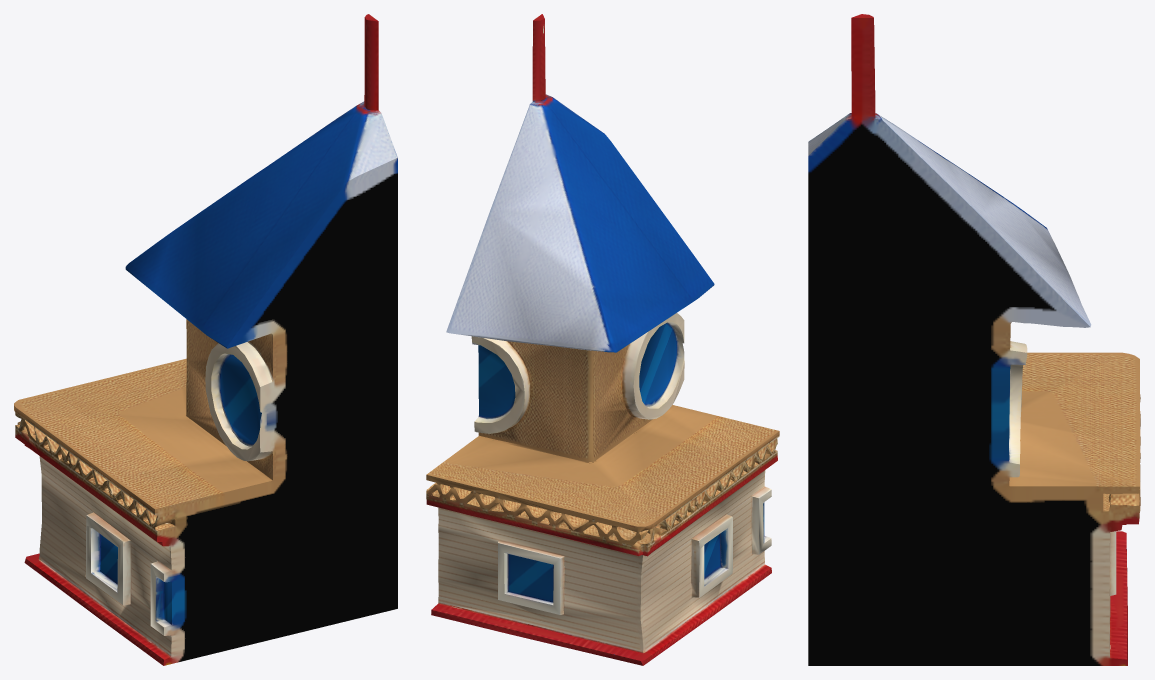
Rendered from 15-topper-back-left.fbx.
The picture shows the model from 3 angles, left to right: view 1: azimuth 30°, elevation 25°; view 2: azimuth 150°, elevation 25°; view 3: azimuth 270°, elevation 25°; orthographic projection. The views are drawn at different scales.
Parts seen in each view (by area): view 1: topper-back-left; view 2: topper-back-left; view 3: topper-back-left.
Part boxes in pixels (<box>): topper-back-left: <box>14,14,397,665</box>; topper-back-left: <box>426,14,779,665</box>; topper-back-left: <box>808,14,1140,665</box>.
Bounding box in the file's own units: 4356 × 9816 × 4567.
Materials: 1 (1 with a texture image).
